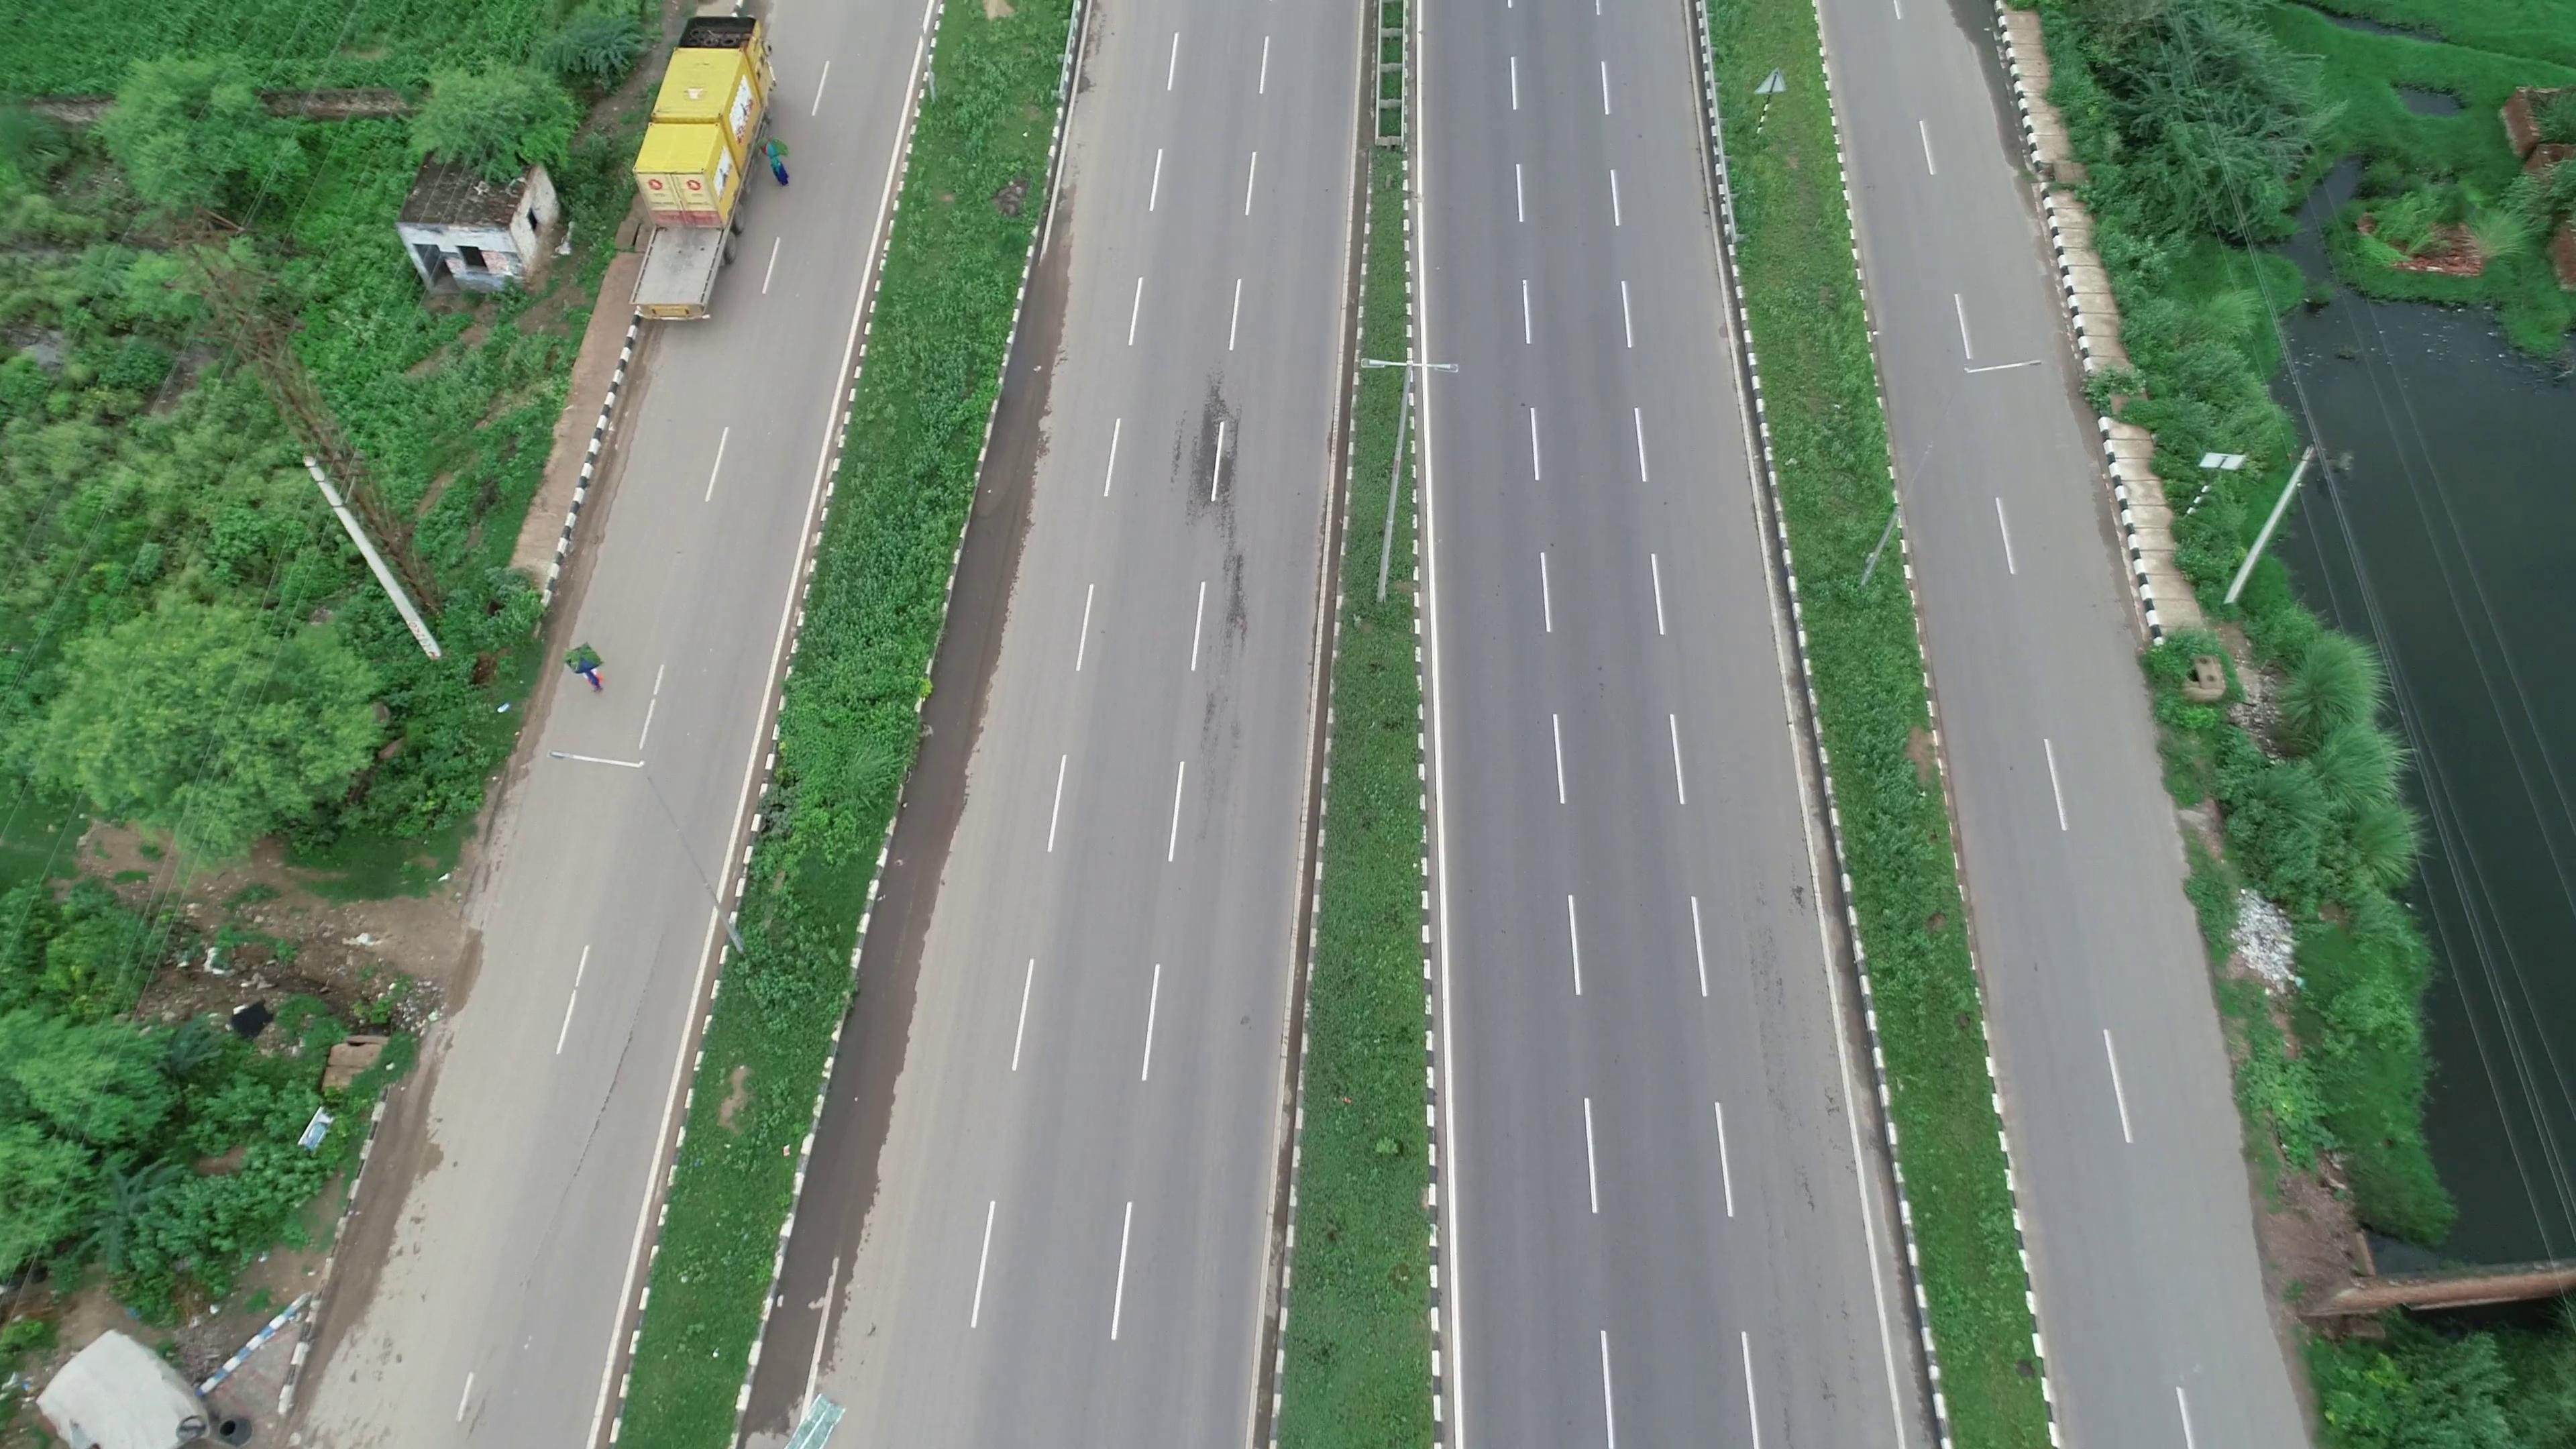Ravelling: (1173, 370, 1263, 662)
